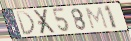1: (104, 5, 120, 30)
5: (51, 7, 71, 34)
8: (71, 8, 88, 31)
D: (14, 10, 36, 36)
M: (84, 6, 110, 31)
X: (33, 9, 57, 36)
